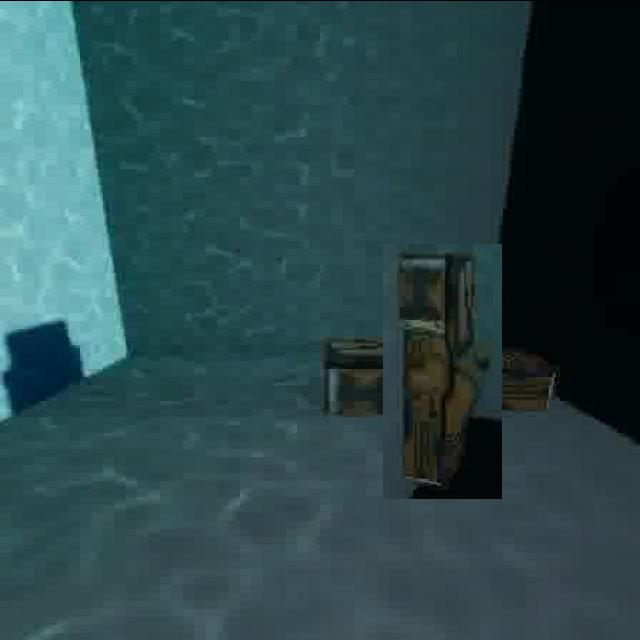Control Panel: (348, 276, 536, 464)
